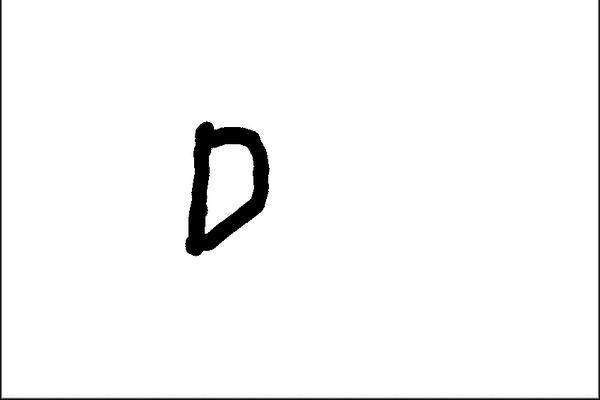D: (180, 116, 277, 262)
